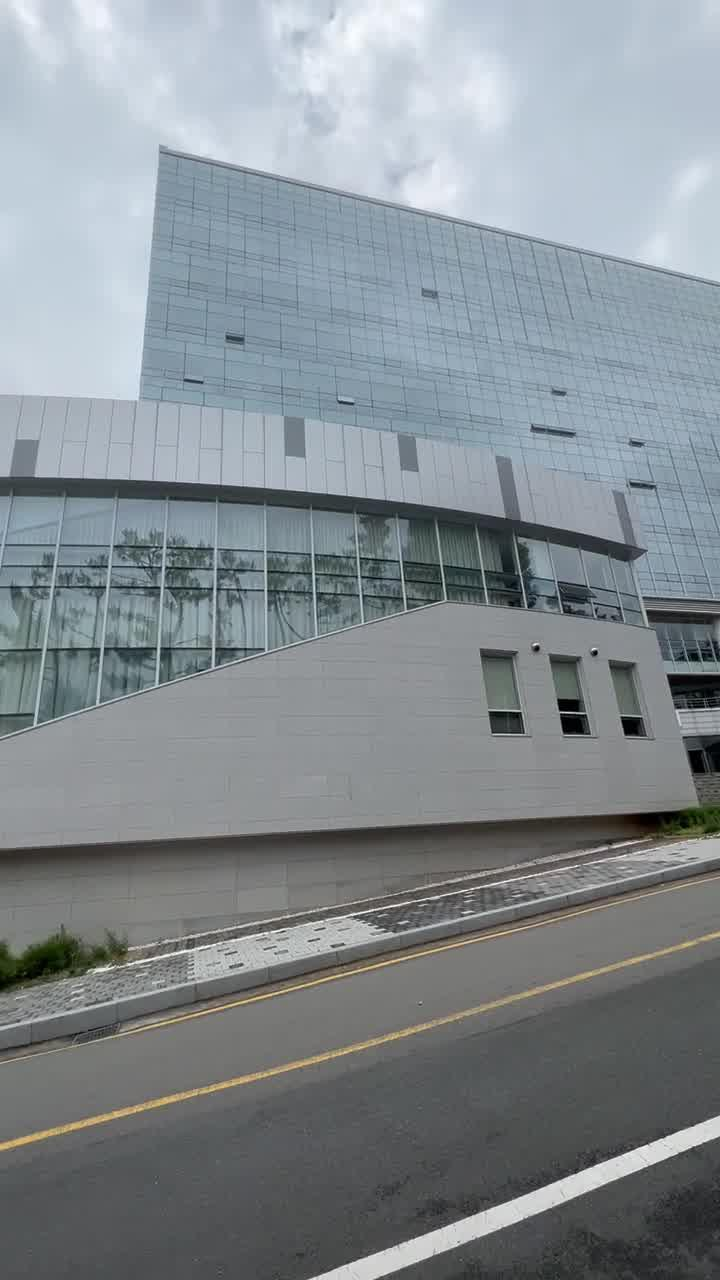building: (136, 162, 720, 814)
